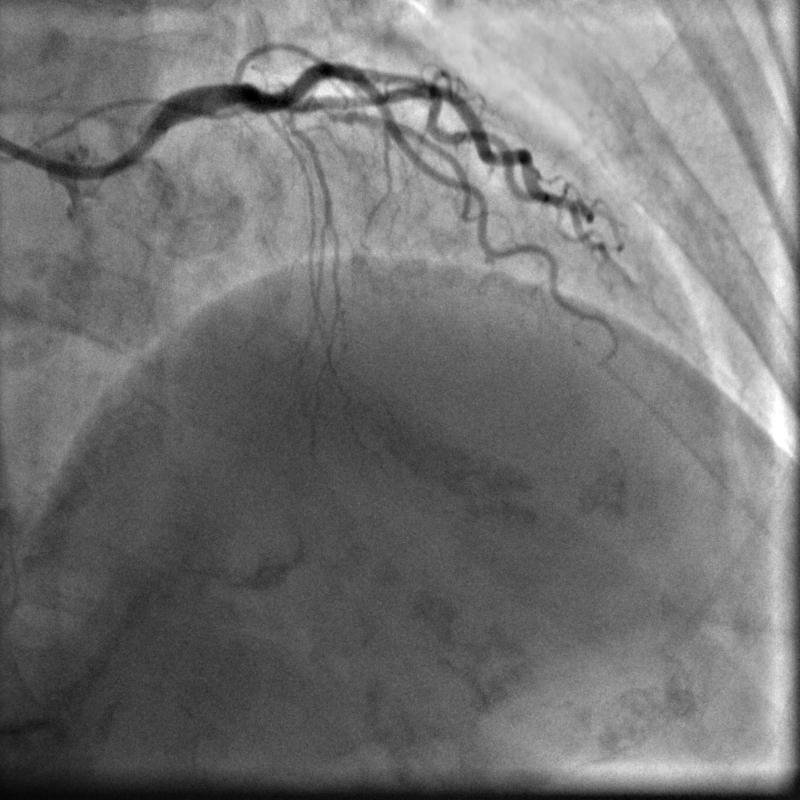Stenosis: (322, 107, 348, 120)
